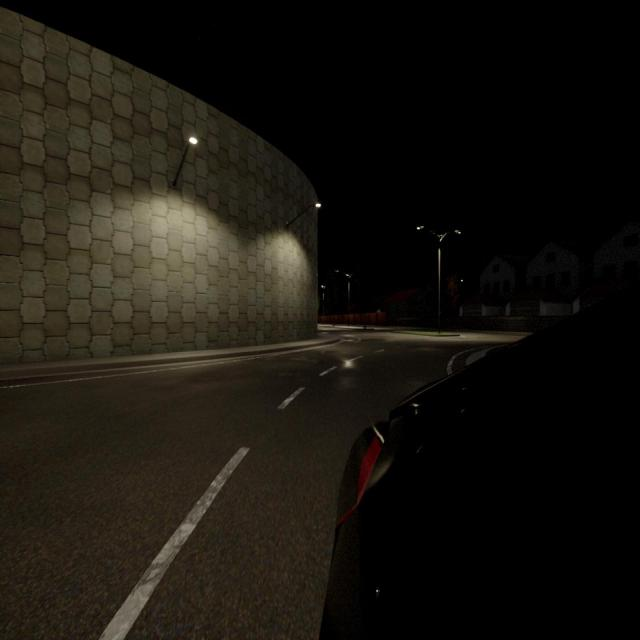Vehicle: (326, 300, 640, 638)
